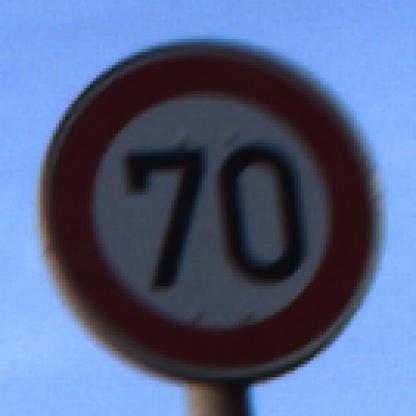Speed Limit 70: (47, 46, 377, 376)
